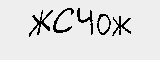Ж: (27, 7, 52, 38), (111, 13, 133, 37)
О: (96, 10, 112, 38)
С: (52, 7, 75, 36)
Ч: (75, 3, 95, 37)
